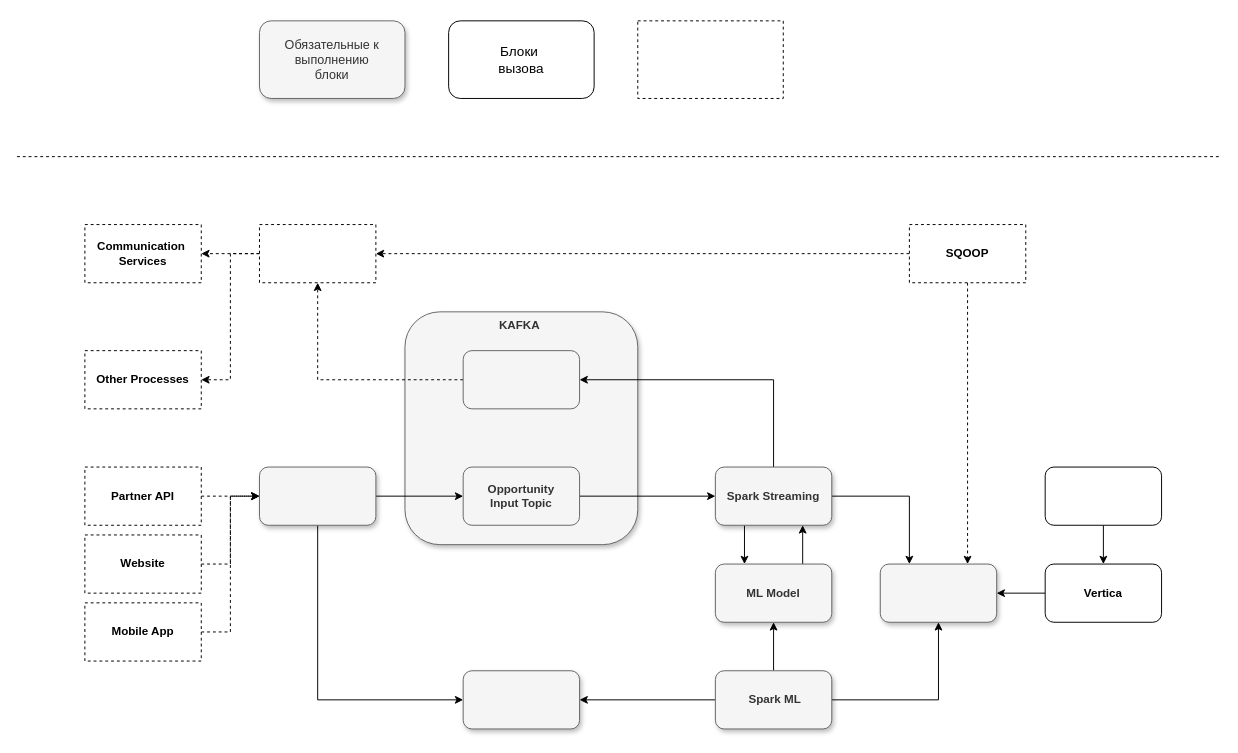
Some shapes in this 1238 by 753 pixel diagram are drawn without their labels. The shapes that lost their labels are listed below. From the top down, each one's centre as x and y in pixels, then its label:
At (x=710, y=59): "Для общей картины".
At (x=317, y=253): "Oracle CRM RDBMS".
At (x=521, y=379): "Opportunity Output Topic".
At (x=318, y=497): "Website \ Mobile App Back".
At (x=1103, y=495): "Tableau / PowerBI".
At (x=938, y=594): "FS / HDFS".
At (x=521, y=701): "CSV".
